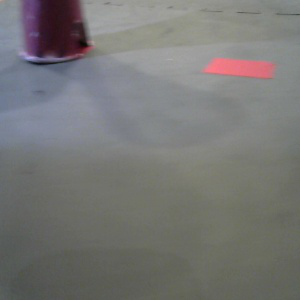right: (5, 1, 99, 72)
